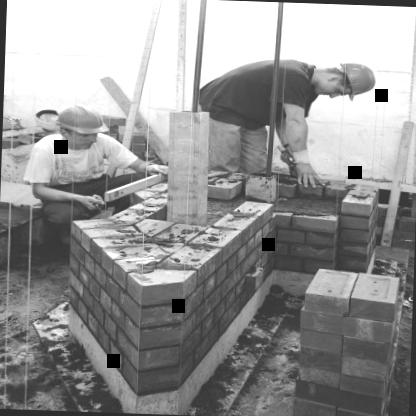helmet: (310, 58, 376, 102), (50, 104, 104, 151)
